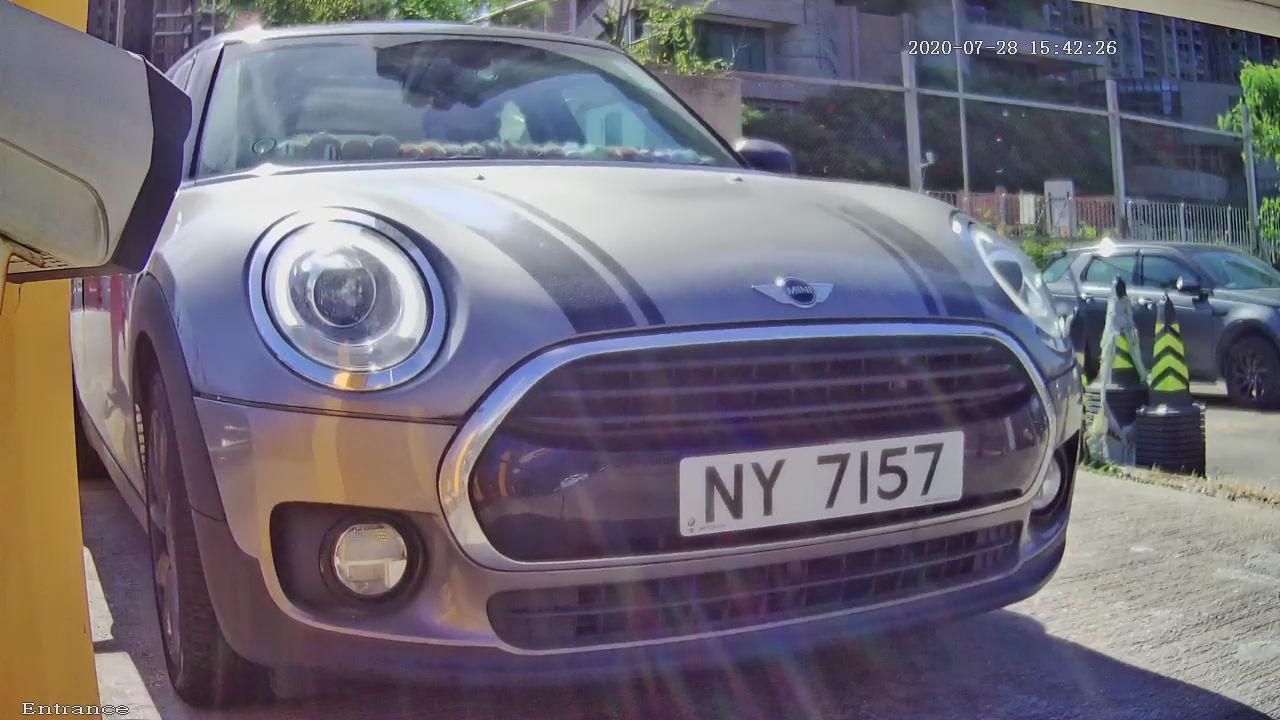privatecar: (75, 17, 1166, 704)
